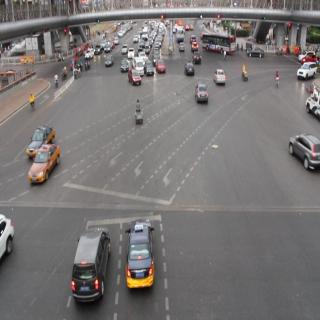BigCar: (202, 31, 237, 55)
Car: (67, 225, 115, 305), (123, 219, 157, 296), (26, 141, 63, 192), (287, 128, 319, 174), (24, 126, 56, 158), (294, 57, 316, 83), (192, 82, 211, 105), (213, 67, 227, 92), (245, 44, 266, 60), (125, 68, 142, 87), (132, 56, 145, 77), (144, 60, 155, 76), (184, 60, 195, 76), (154, 58, 166, 72), (119, 57, 129, 73), (175, 28, 185, 43), (191, 52, 202, 64), (84, 48, 94, 61), (93, 43, 102, 55), (105, 54, 113, 67), (127, 47, 135, 60), (153, 54, 161, 66), (141, 56, 149, 68), (138, 52, 147, 62), (120, 44, 128, 55), (190, 42, 199, 51), (189, 35, 197, 44), (178, 42, 185, 51), (100, 40, 107, 48), (104, 44, 110, 53), (137, 49, 144, 55), (133, 36, 139, 42)
